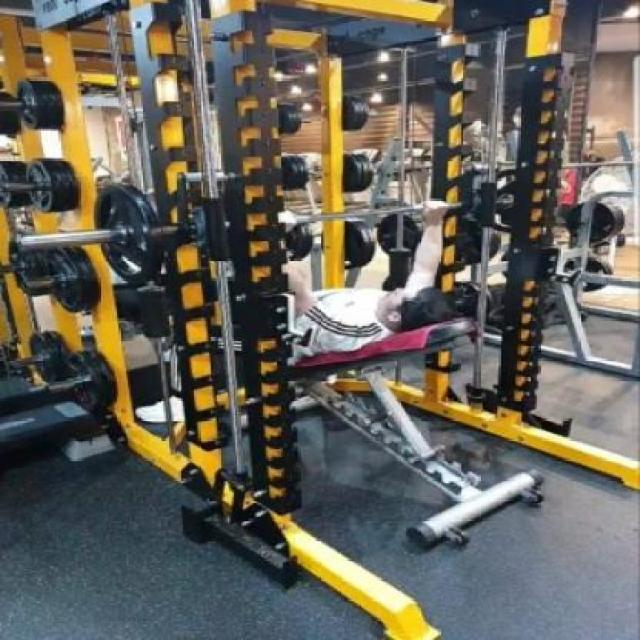smith machine: (0, 0, 574, 640)
